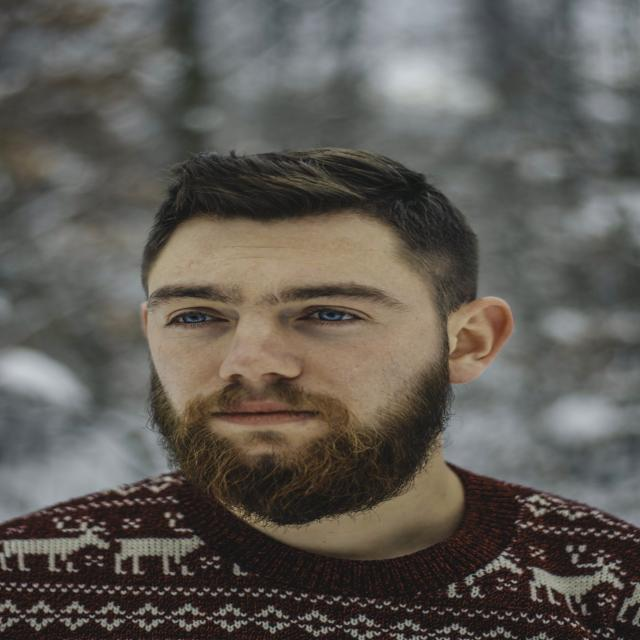adult: (30, 146, 583, 640)
